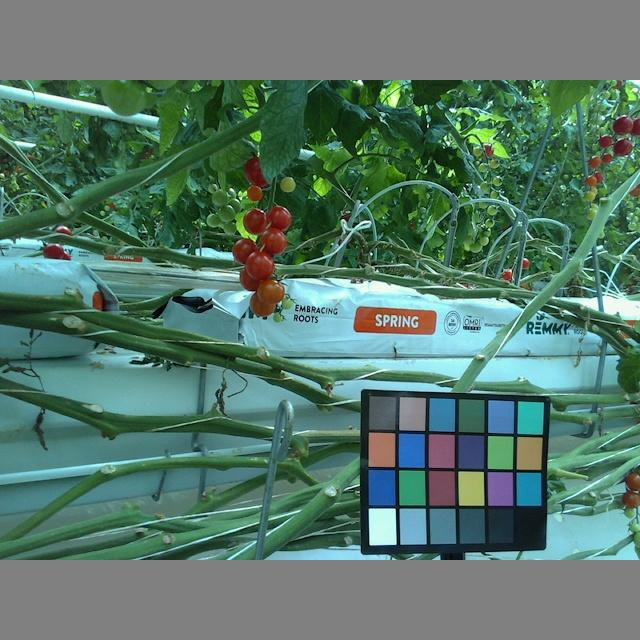pink: (250, 292, 274, 321), (264, 281, 284, 302), (590, 154, 602, 167), (586, 174, 596, 188)
red: (242, 155, 267, 188), (246, 206, 268, 237), (249, 254, 274, 280), (610, 112, 635, 137), (232, 240, 258, 262), (262, 234, 288, 254), (242, 267, 263, 289), (245, 183, 265, 201), (273, 209, 290, 230), (616, 139, 633, 155), (599, 134, 613, 147)
